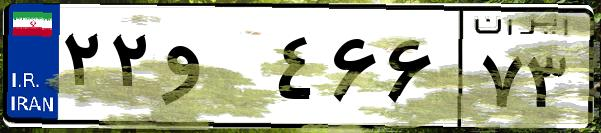2: (57, 26, 110, 100), (110, 28, 158, 98)
3: (525, 38, 570, 115)
4: (270, 28, 330, 110)
6: (385, 28, 445, 110), (330, 28, 385, 110)
7: (475, 38, 525, 113)
و: (158, 20, 270, 120)
